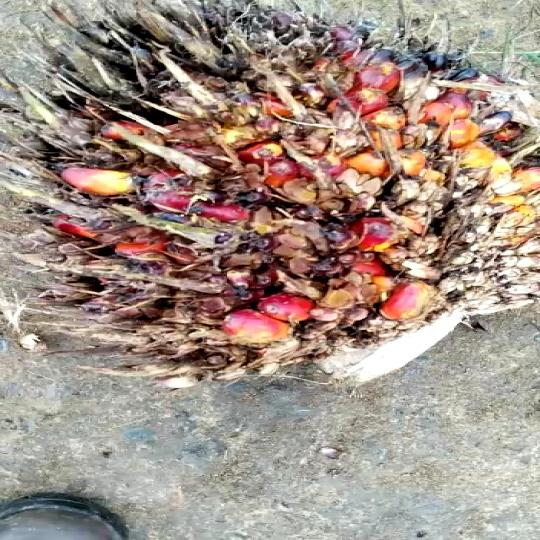terlalu masak: (0, 0, 540, 390)
